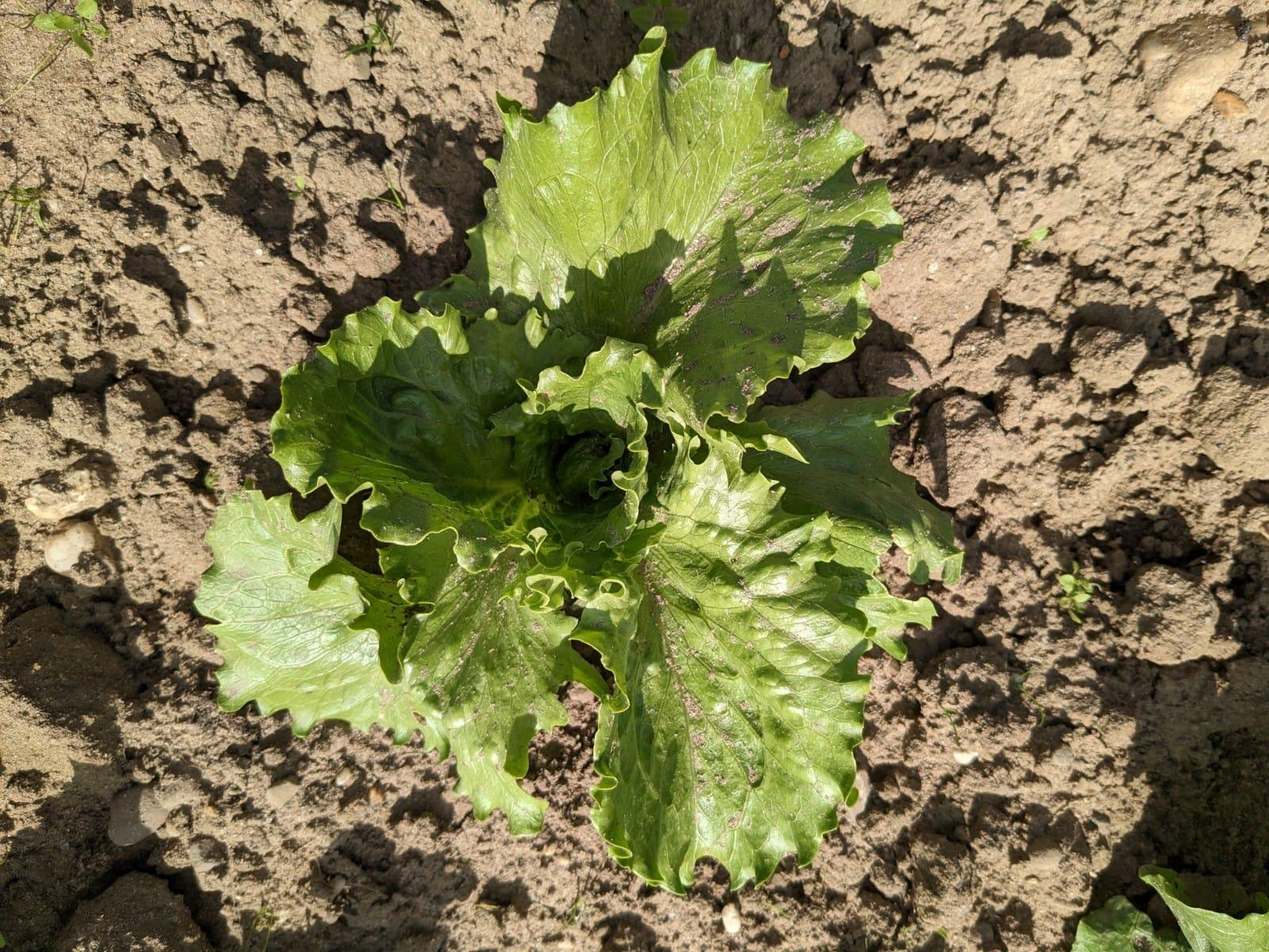Healthy: (196, 28, 963, 892)
